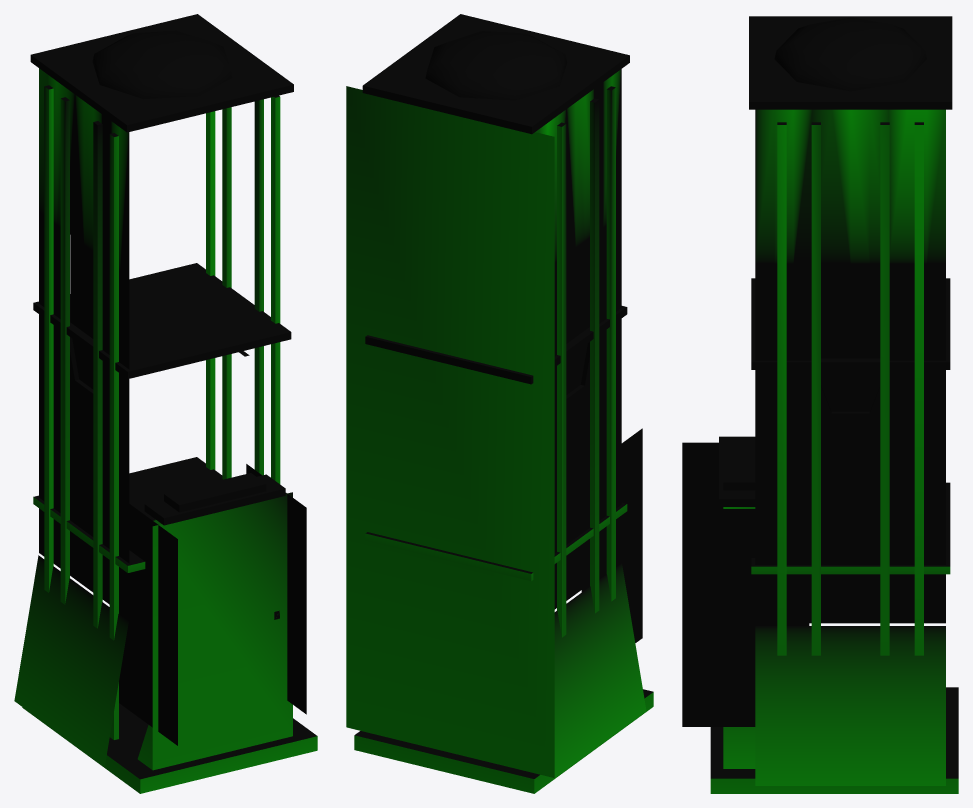
Rendered from d_heavypost.glb.
The picture shows the model from 3 angles, left to right: view 1: azimuth 30°, elevation 25°; view 2: azimuth 150°, elevation 25°; view 3: azimuth 270°, elevation 25°; orthographic projection. The views are drawn at different scales.
Visible parts, largest first — view 1: lod0; view 2: lod0; view 3: lod0.
Boxes of the visible parts, x1=… form: lod0: x1=14, y1=14, x2=317, y2=793; lod0: x1=346, y1=14, x2=653, y2=793; lod0: x1=682, y1=16, x2=958, y2=793.
Size of what is drawn, in the model's own units: 5.91 by 18.66 by 6.53.
